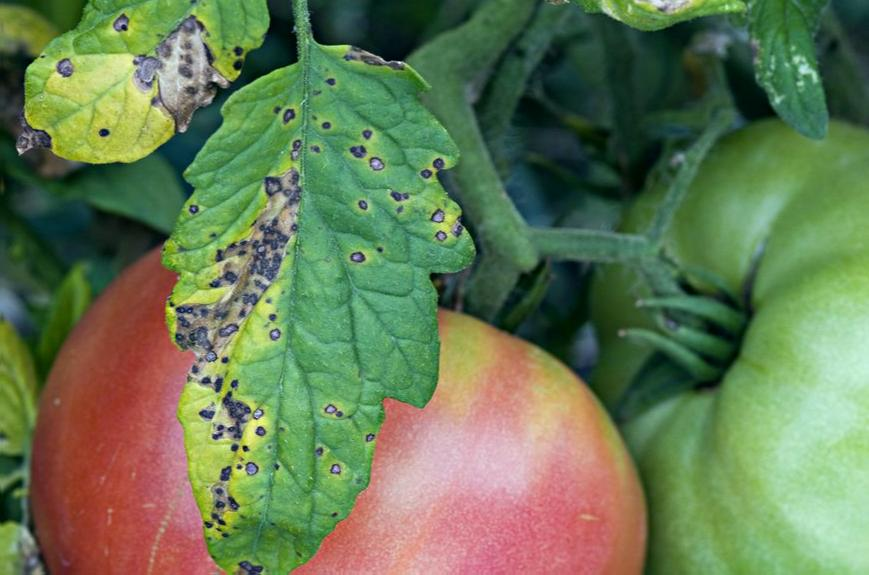Tomato Septoria leaf spot: (151, 38, 447, 575), (9, 1, 267, 167)
